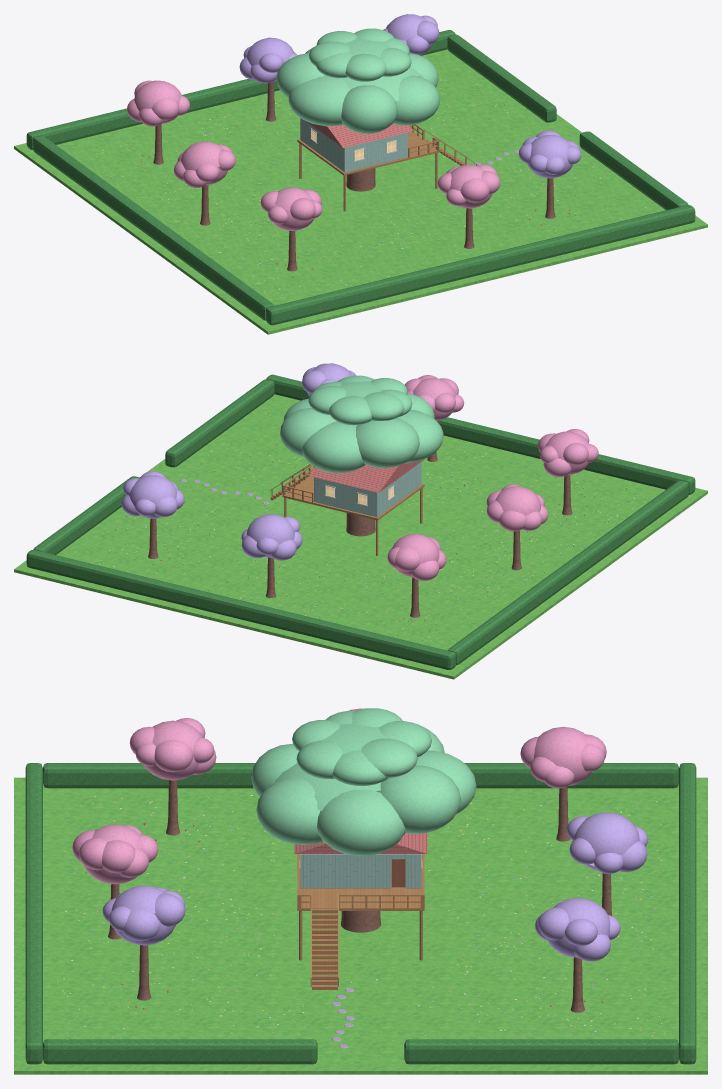
Rendered from tree_house.glb.
3 renders of one model, top to bottom at view 1: azimuth 30°, elevation 25°; view 2: azimuth 150°, elevation 25°; view 3: azimuth 270°, elevation 25°, orthographic. The views are drawn at different scales.
Visible parts, largest first — view 1: Grass, Hedge, Leaf_Mint, Leaf_Pink, Leaf_Lilac, Bark, Siding, Deck, Shingles; view 2: Grass, Hedge, Leaf_Mint, Leaf_Pink, Leaf_Lilac, Siding, Bark, Deck, Shingles; view 3: Grass, Hedge, Leaf_Mint, Leaf_Pink, Leaf_Lilac, Deck, Siding, Bark, Shingles.
Part boxes in pixels (x1,y1,x2,y2): Grass: [14, 49, 707, 334]; Hedge: [26, 30, 695, 325]; Leaf_Mint: [276, 28, 439, 133]; Leaf_Pink: [127, 80, 500, 230]; Leaf_Lilac: [239, 14, 581, 178]; Bark: [153, 81, 555, 271]; Siding: [300, 118, 407, 172]; Deck: [297, 124, 477, 211]; Shingles: [307, 121, 413, 147]; Grass: [14, 394, 707, 679]; Hedge: [26, 374, 695, 669]; Leaf_Mint: [280, 375, 443, 472]; Leaf_Pink: [387, 375, 598, 580]; Leaf_Lilac: [121, 363, 355, 560]; Siding: [314, 462, 421, 516]; Bark: [148, 452, 572, 617]; Deck: [270, 464, 424, 555]; Shingles: [308, 458, 425, 492]; Grass: [14, 777, 707, 1074]; Hedge: [25, 763, 696, 1064]; Leaf_Mint: [251, 708, 476, 855]; Leaf_Pink: [72, 708, 606, 884]; Leaf_Lilac: [102, 812, 648, 961]; Deck: [297, 854, 424, 989]; Siding: [300, 854, 421, 888]; Bark: [108, 780, 611, 1012]; Shingles: [294, 832, 427, 853].
Bounding box in the file's own units: 48 × 15.16 × 48.
23 materials, 12 textured.
